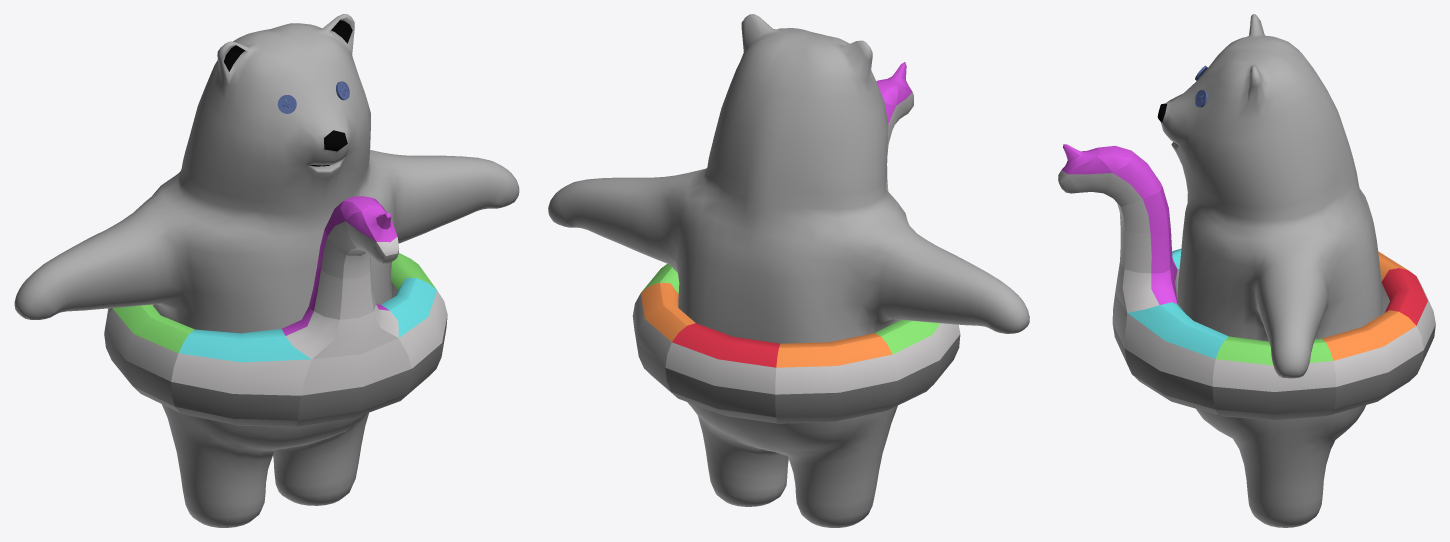
The model's file is teddy_bear 1.fbx.
3 renders of one model, left to right at view 1: azimuth 30°, elevation 25°; view 2: azimuth 150°, elevation 25°; view 3: azimuth 270°, elevation 25°, orthographic. The views are drawn at different scales.
Parts seen in each view (by area): view 1: Roundcube, inflatable-unicorn-small; view 2: Roundcube, inflatable-unicorn-small; view 3: Roundcube, inflatable-unicorn-small.
Part boxes in pixels (bbox=[...]): Roundcube: bbox=[14, 14, 519, 527]; inflatable-unicorn-small: bbox=[104, 196, 447, 427]; Roundcube: bbox=[548, 14, 1029, 527]; inflatable-unicorn-small: bbox=[632, 62, 960, 423]; Roundcube: bbox=[1157, 14, 1382, 527]; inflatable-unicorn-small: bbox=[1058, 144, 1435, 420].
Bounding box in the file's own units: 458 × 431 × 322.
